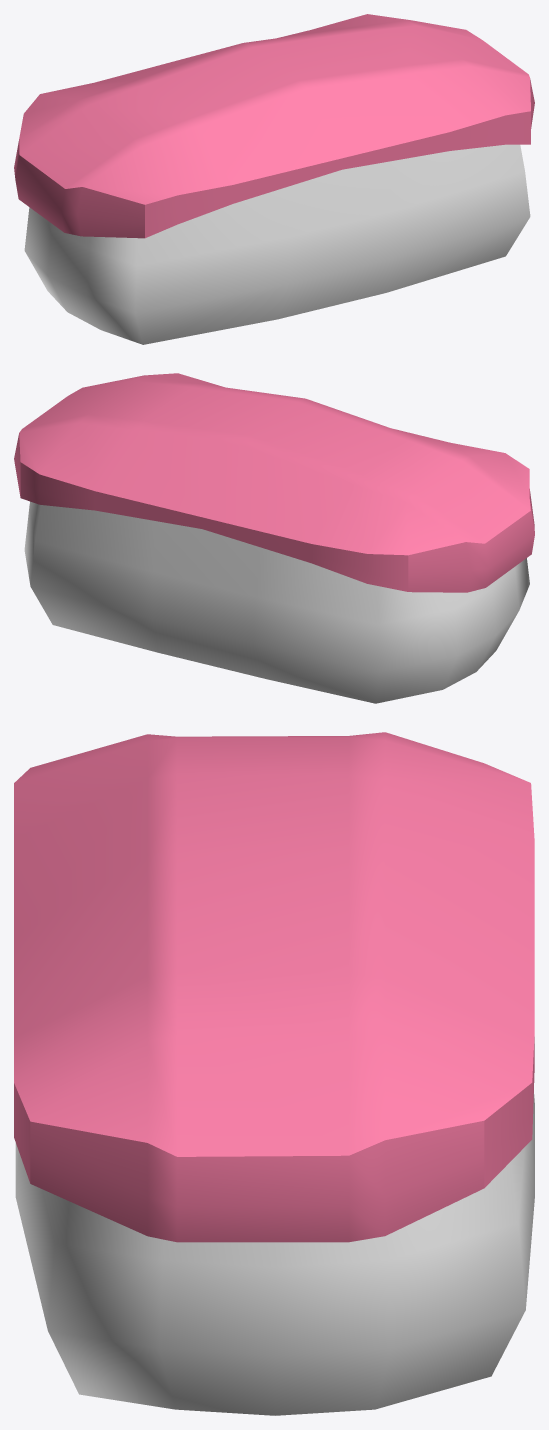
Rendered from Sushi_pink.fbx.
3 views of the same model, one above another, from view 1: azimuth 30°, elevation 25°; view 2: azimuth 150°, elevation 25°; view 3: azimuth 270°, elevation 25° (orthographic). The views are drawn at different scales.
Visible parts, largest first — view 1: pCube2; view 2: pCube2; view 3: pCube2.
Boxes of the visible parts, x1,y1,x2,y2 form: pCube2: (14, 14, 534, 344); pCube2: (14, 373, 534, 703); pCube2: (14, 732, 534, 1415).
Bounding box in the file's own units: 28.75 × 11.69 × 14.68.
